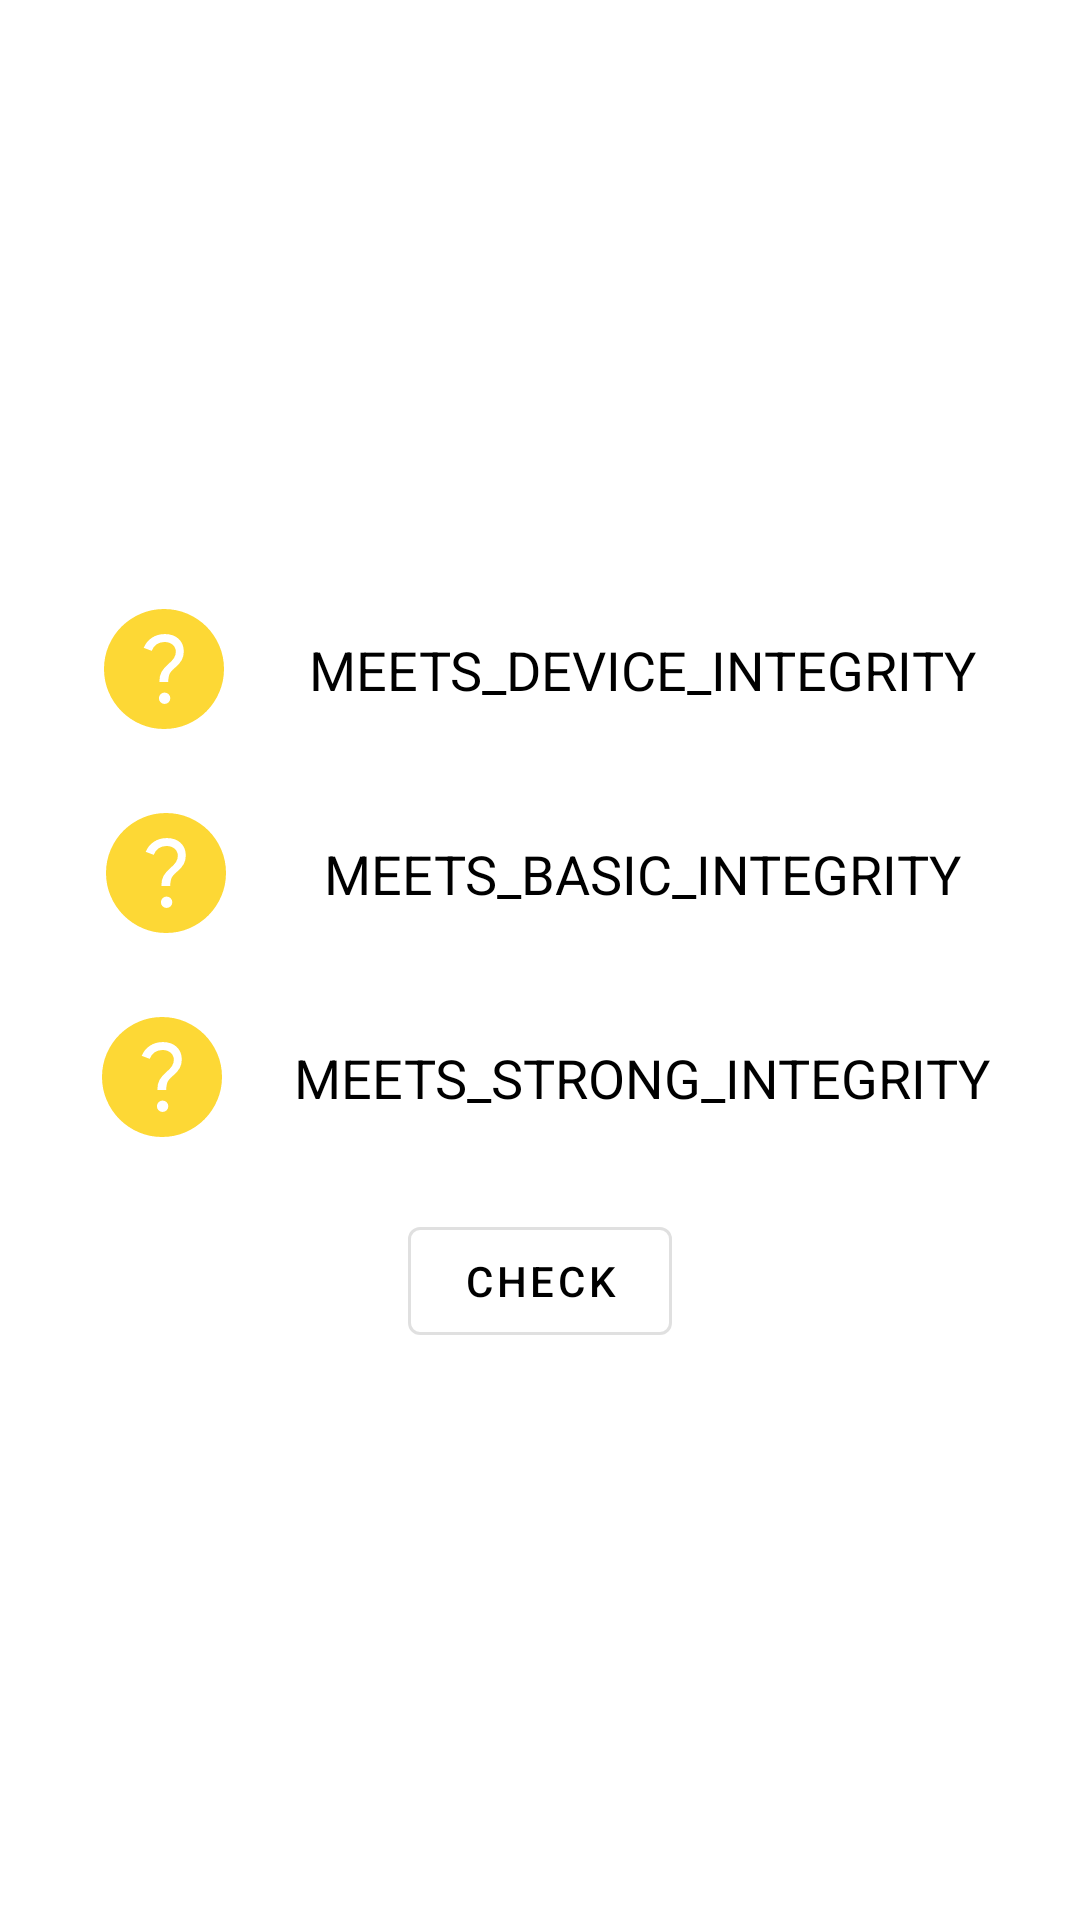

Named icons in this screenshot (1080×1920) and their bounding boxes, (x1, y1, x2, y2):
Unknown: (104, 609, 224, 729), (106, 813, 226, 933), (102, 1017, 222, 1137)
